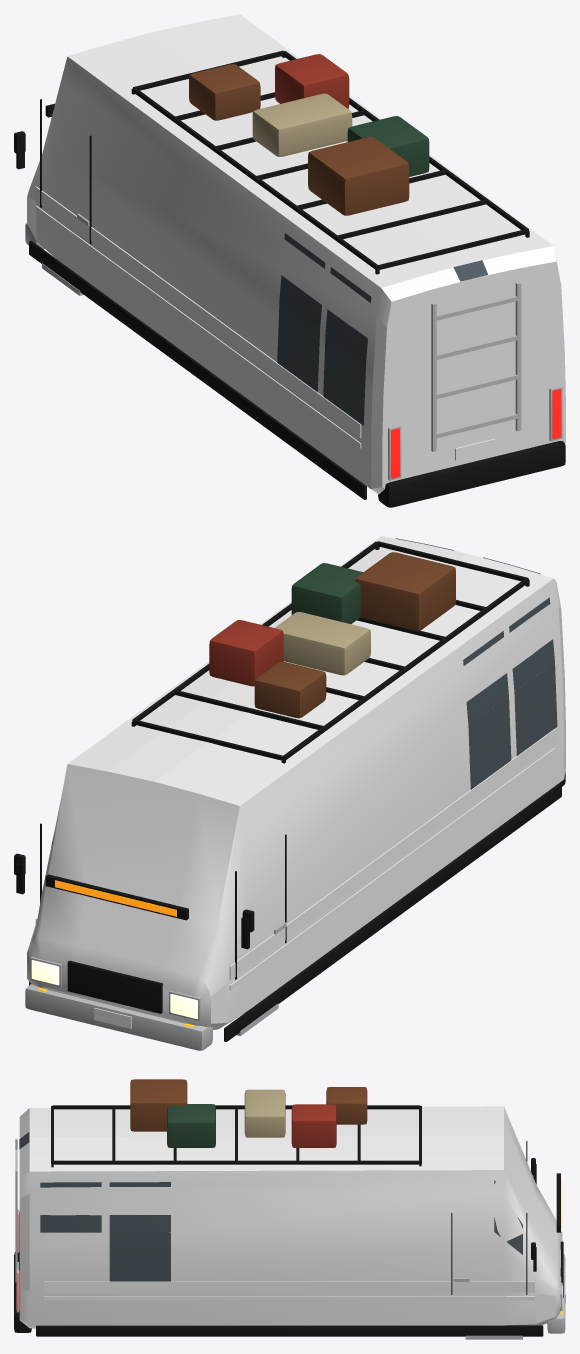
The model's file is tourist-coaster.glb.
3 renders of one model, top to bottom at view 1: azimuth 30°, elevation 25°; view 2: azimuth 150°, elevation 25°; view 3: azimuth 270°, elevation 25°, orthographic. The views are drawn at different scales.
Parts seen in each view (by area): view 1: body; view 2: body; view 3: body.
Part boxes in pixels (box(x1,y1,x2,y2)): body: box(14, 14, 565, 507); body: box(14, 536, 565, 1050); body: box(14, 1079, 565, 1339).
Bounding box in the file's own units: 2.54 × 2.74 × 6.75.
